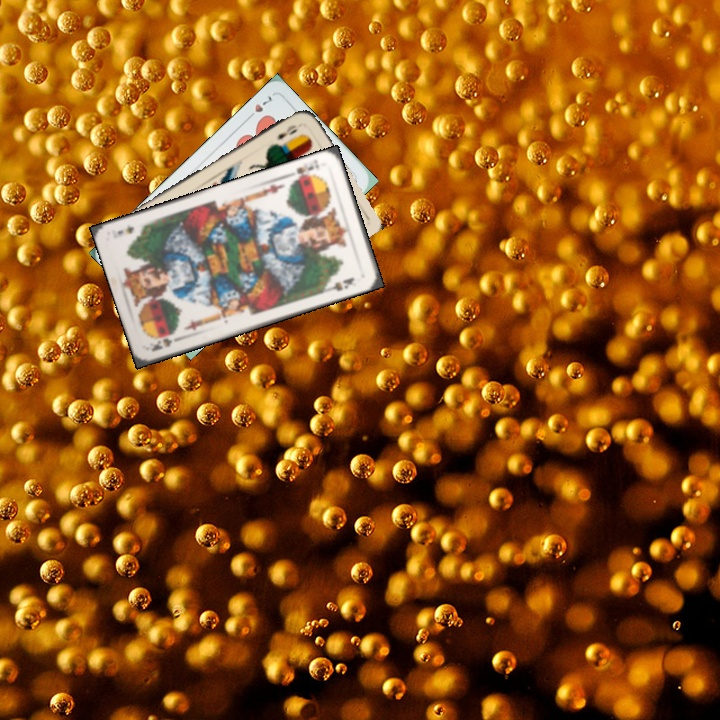EO: (274, 121, 301, 142)
H7: (243, 91, 274, 123)
SK: (289, 155, 322, 184), (147, 333, 182, 354)
